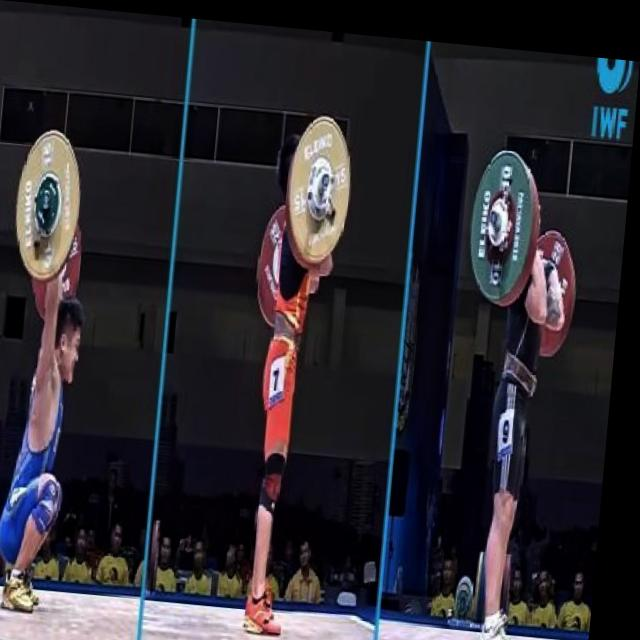barbell: (41, 176, 60, 219), (489, 194, 506, 225), (321, 160, 337, 190)
